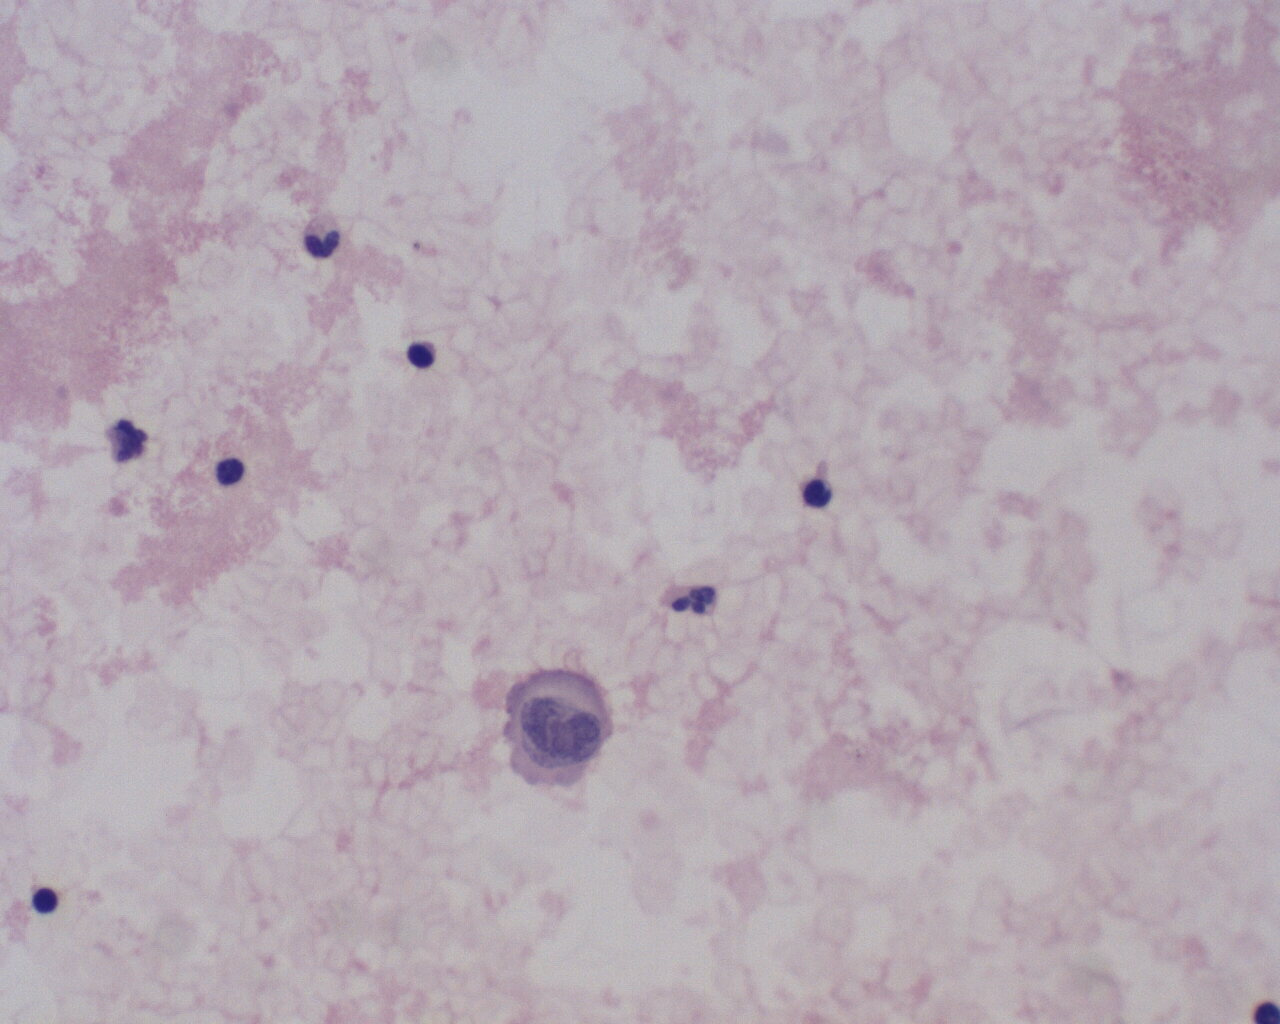lymph: (403, 336, 440, 377), (797, 475, 839, 511), (211, 449, 249, 488), (26, 885, 60, 918)
neutro: (299, 207, 344, 261)
